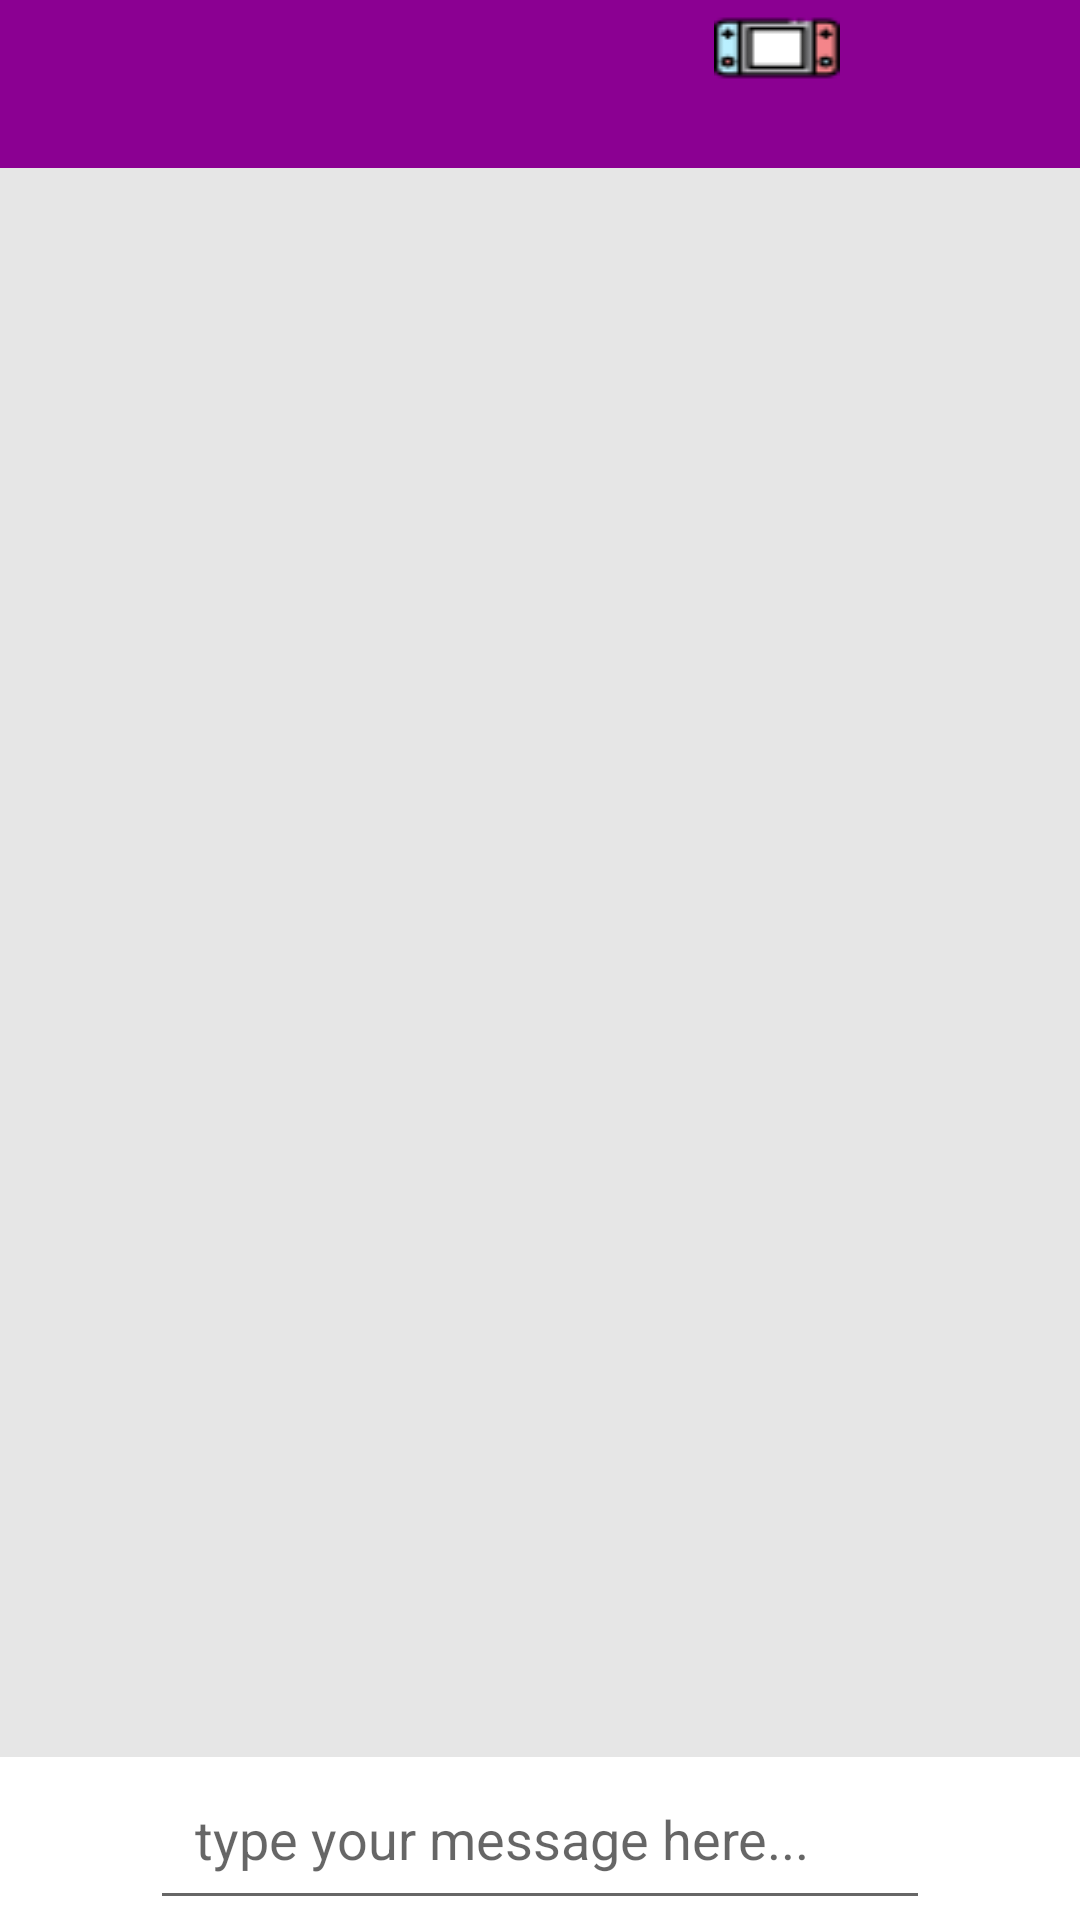

Where icons sit on this 1080px x 1920px app screen, as (x1, y1, x2, y2):
gamepad: (714, 18, 840, 79)
